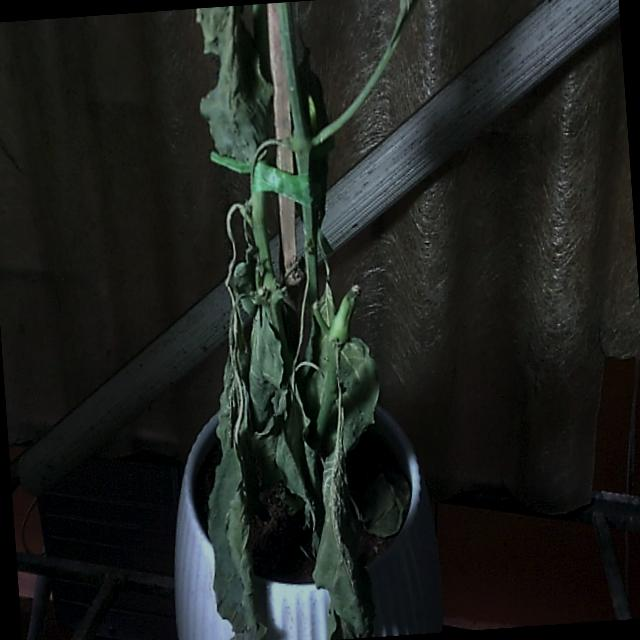Leaf: (303, 443, 378, 640), (201, 427, 268, 640)
